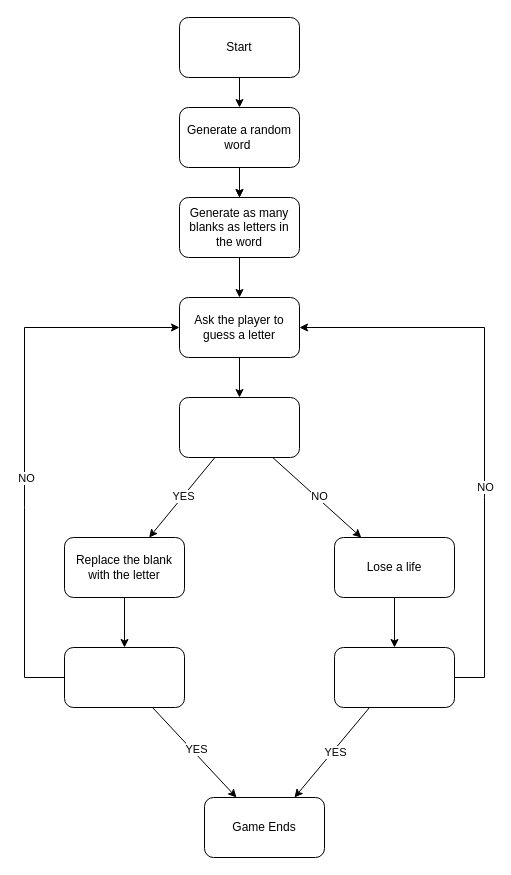
Image size: 511x875. Some labels were removed from this diagram. The shapes that lost their labels are listed below. From the top down, each one's centre as x and y in pixels, then its label:
At point 239,427: "Is the guessed letter in the word?".
At point 124,677: "Are all blanks filled?".
At point 394,677: "Do they run out of life?".
